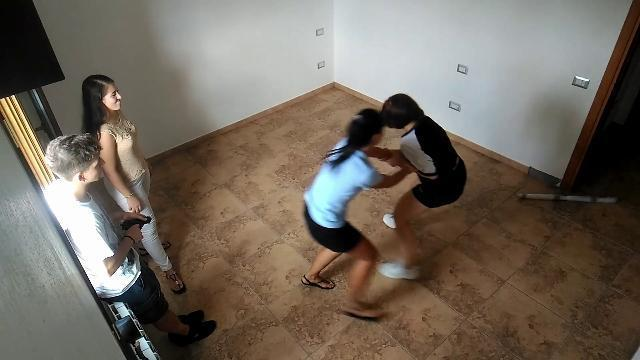non-violence: (44, 135, 216, 343), (80, 74, 188, 296)
violence: (298, 92, 468, 320)
weapon: (121, 215, 155, 235)
